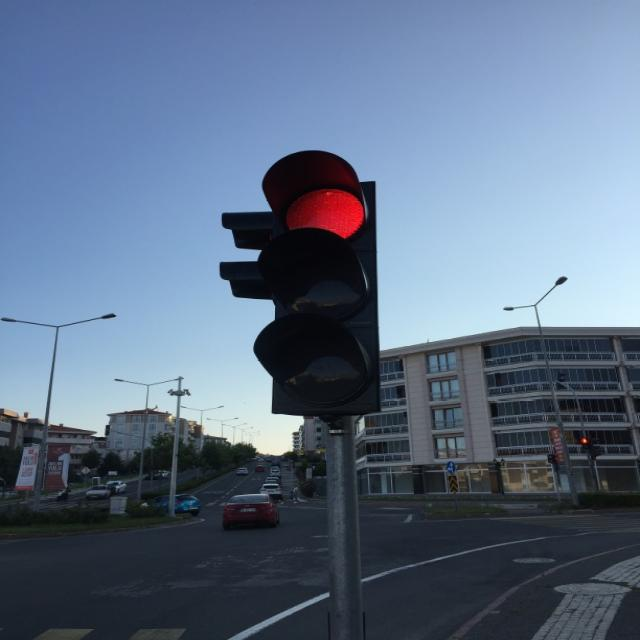kirmizi: (265, 148, 394, 420)
